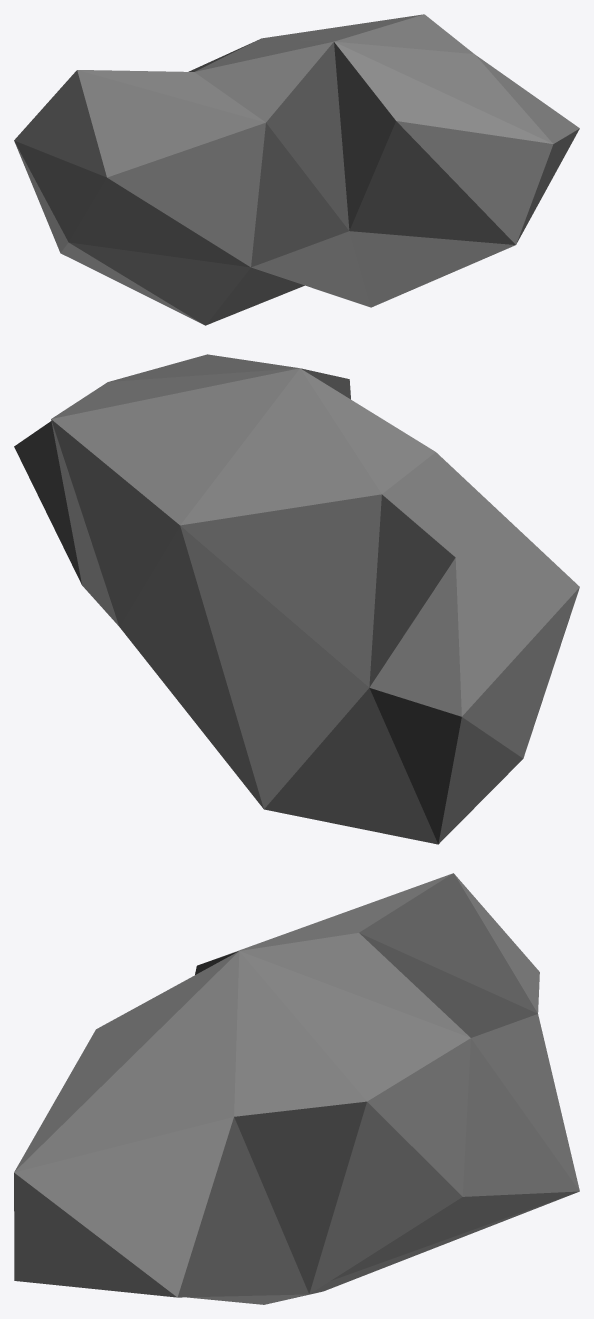
File: Rock1.glb
3 views of the same model, one above another, from view 1: azimuth 30°, elevation 25°; view 2: azimuth 150°, elevation 25°; view 3: azimuth 270°, elevation 25° (orthographic). The views are drawn at different scales.
Parts seen in each view (by area): view 1: Icosphere; view 2: Icosphere; view 3: Icosphere.
Part boxes in pixels (x1=…): Icosphere: x1=14, y1=14, x2=579, y2=325; Icosphere: x1=14, y1=354, x2=579, y2=844; Icosphere: x1=14, y1=873, x2=579, y2=1304.
Size of the model in its own units: 7.37 by 4.47 by 5.56.
Materials: 1 (1 with a texture image).
